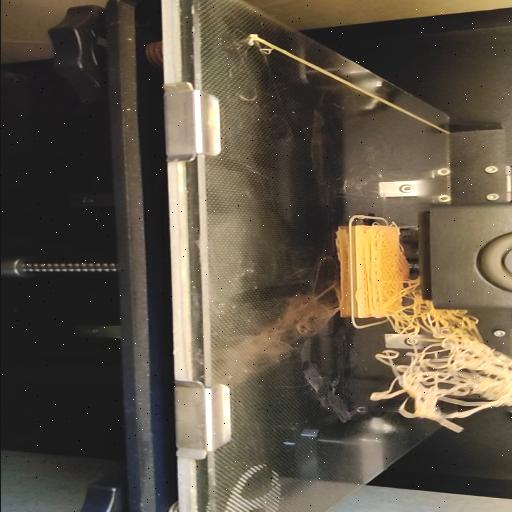spaghetti: (367, 306, 488, 426)
